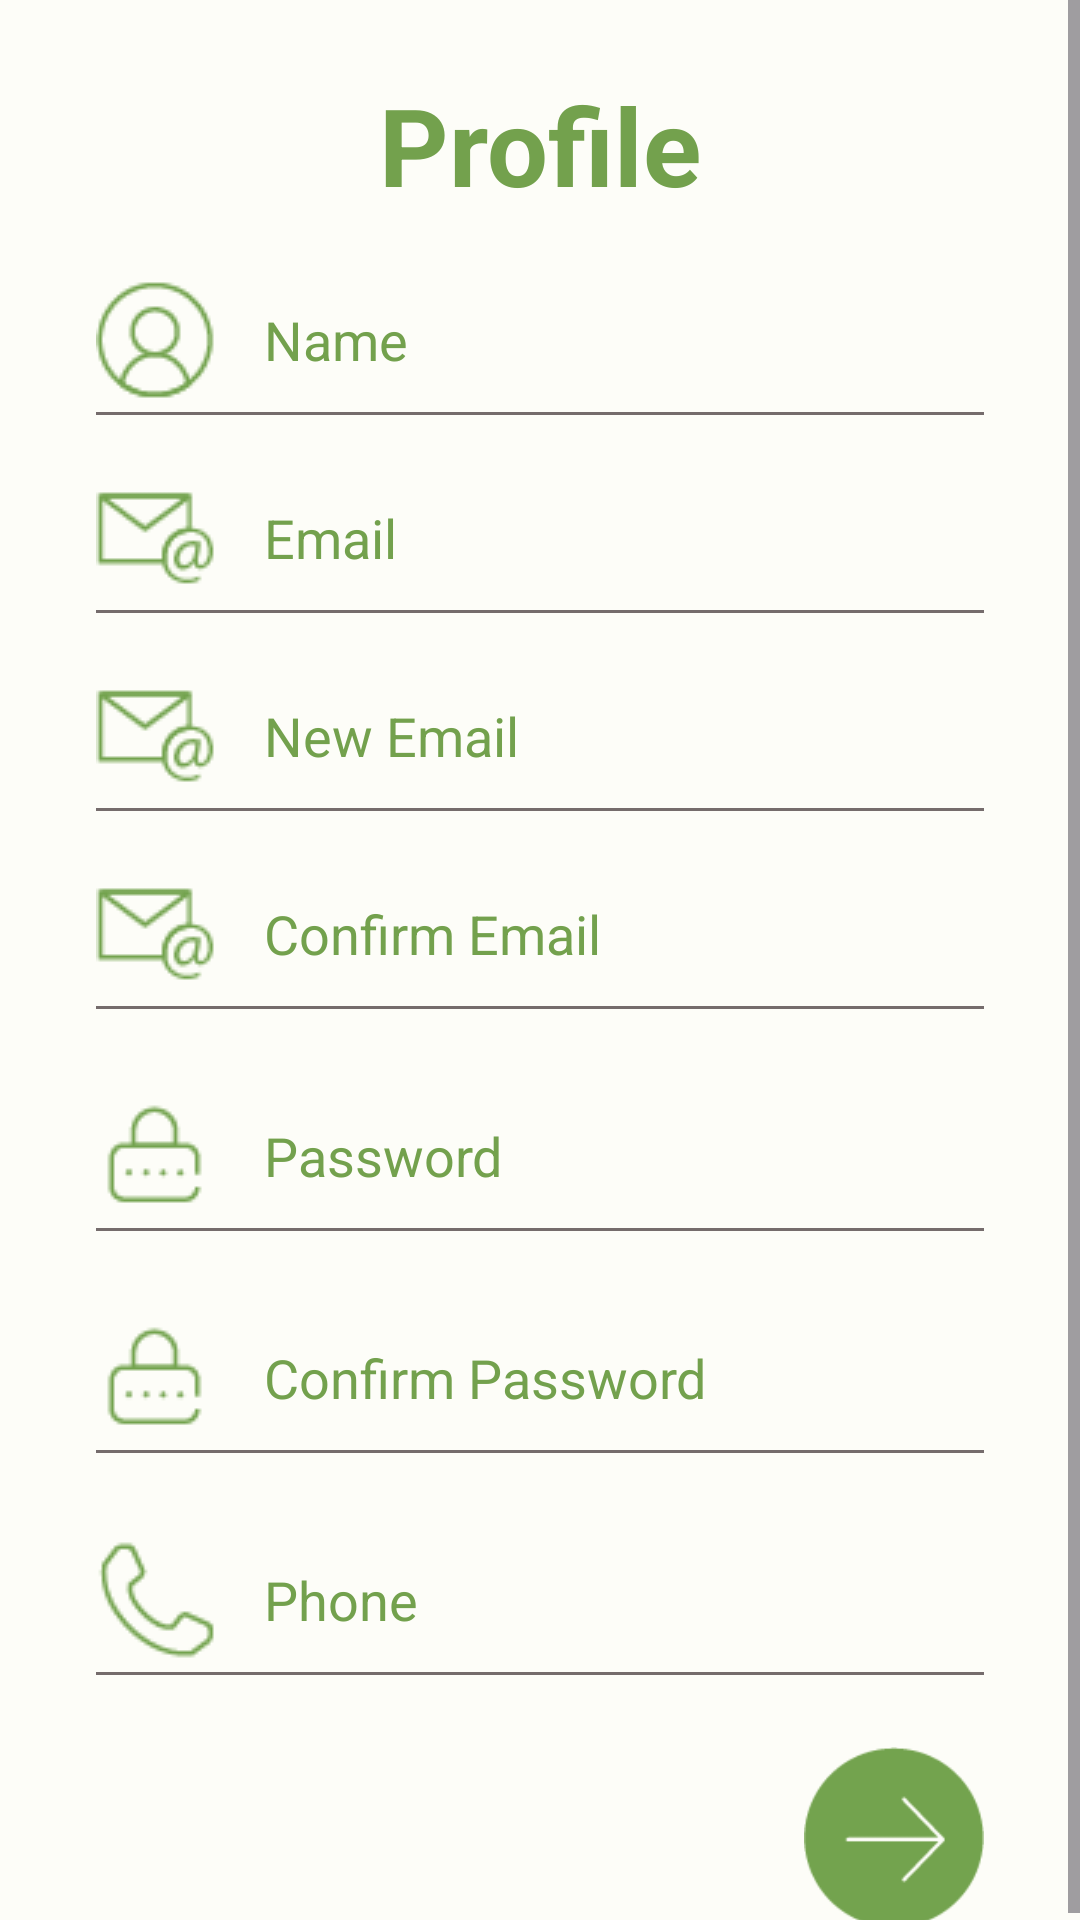

Screen size 1080x1920. Icon name, then its center in pixels as [x,y]:
arrow: [894,1833]
